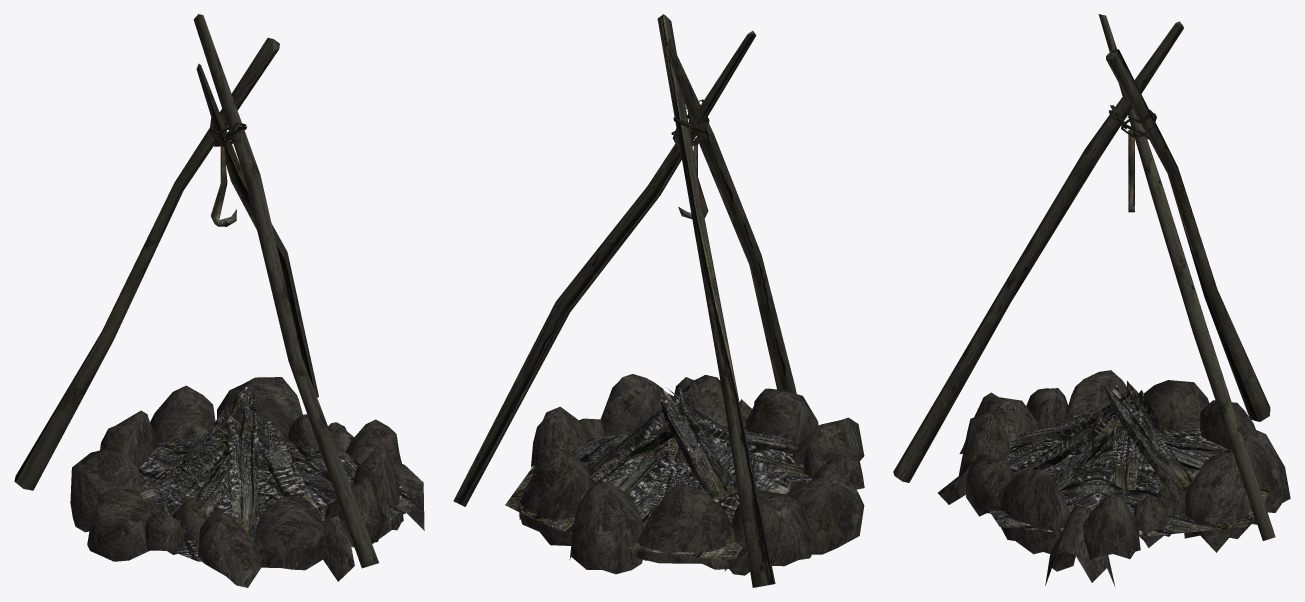
The model's file is G3_Object_Interact_Campfire_01.obj.
3 views of the same model, side by side, from view 1: azimuth 30°, elevation 25°; view 2: azimuth 150°, elevation 25°; view 3: azimuth 270°, elevation 25° (orthographic). The views are drawn at different scales.
Visible parts, largest first — view 1: G3_Object_Interact_Campfire_01_4, G3_Object_Interact_Campfire_01_2, G3_Object_Interact_Campfire_01_3, G3_Object_Interact_Campfire_01_0; view 2: G3_Object_Interact_Campfire_01_4, G3_Object_Interact_Campfire_01_2, G3_Object_Interact_Campfire_01_3; view 3: G3_Object_Interact_Campfire_01_4, G3_Object_Interact_Campfire_01_2, G3_Object_Interact_Campfire_01_3, G3_Object_Interact_Campfire_01_0.
Boxes of the visible parts, x1,y1,x2,y2 form: G3_Object_Interact_Campfire_01_4: (70, 377, 424, 587); G3_Object_Interact_Campfire_01_2: (14, 14, 378, 568); G3_Object_Interact_Campfire_01_3: (137, 384, 416, 561); G3_Object_Interact_Campfire_01_0: (210, 146, 236, 226); G3_Object_Interact_Campfire_01_4: (519, 374, 864, 575); G3_Object_Interact_Campfire_01_2: (453, 14, 796, 587); G3_Object_Interact_Campfire_01_3: (505, 379, 812, 559); G3_Object_Interact_Campfire_01_4: (938, 370, 1290, 585); G3_Object_Interact_Campfire_01_2: (893, 14, 1275, 540); G3_Object_Interact_Campfire_01_3: (986, 381, 1270, 536); G3_Object_Interact_Campfire_01_0: (1128, 130, 1134, 212).
Bounding box in the file's own units: 1.71 × 2.68 × 1.93.
